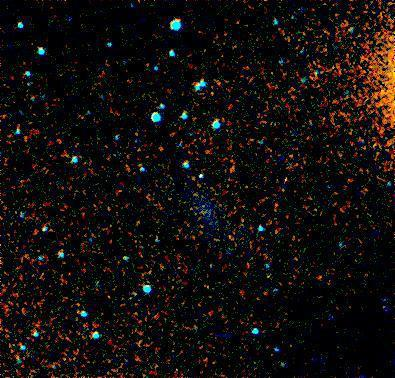star: (147, 135, 177, 165)
